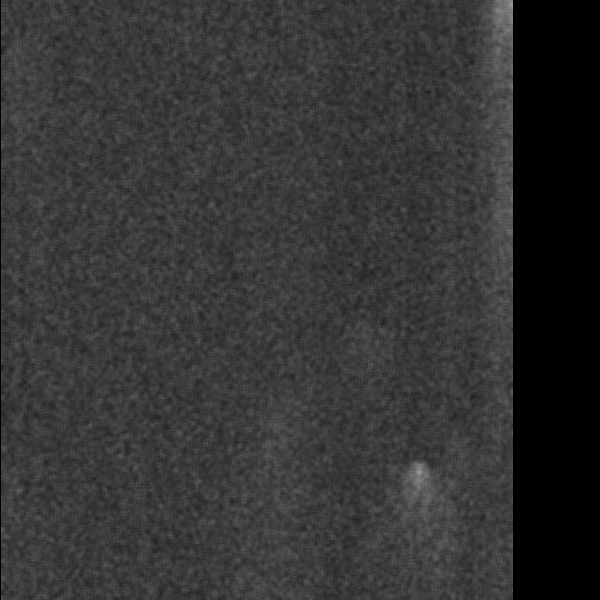spark: (403, 457, 433, 543)
